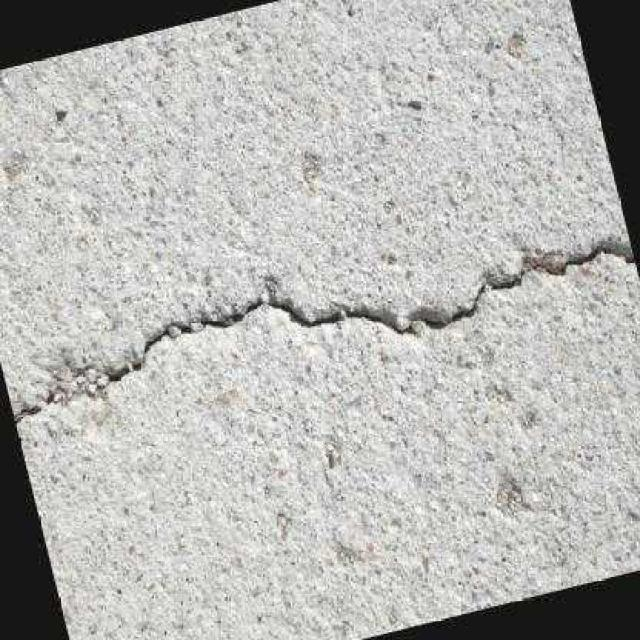D00: (12, 238, 635, 429)
